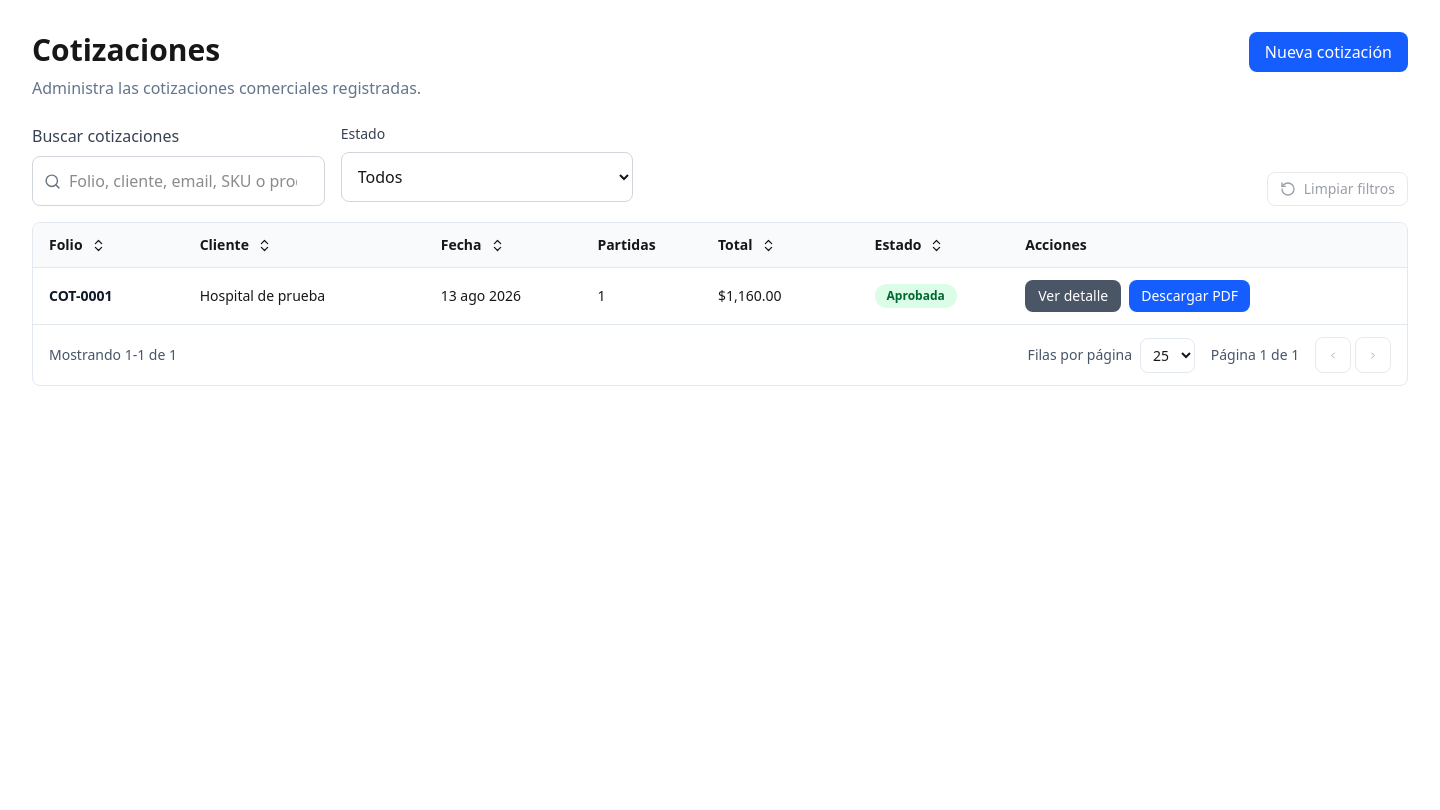
Test: QuotesPage › permite convertir desde el detalle únicamente una cotización confirmada no convertida
Expected: the text "COT-0001" is shown, [49, 286, 112, 305]
What coordinates should you click on to do the following:
click the button "Ver detalle"
I would click on:
 (1073, 296)
Its box is [1025, 280, 1121, 312].
(page scrolled)
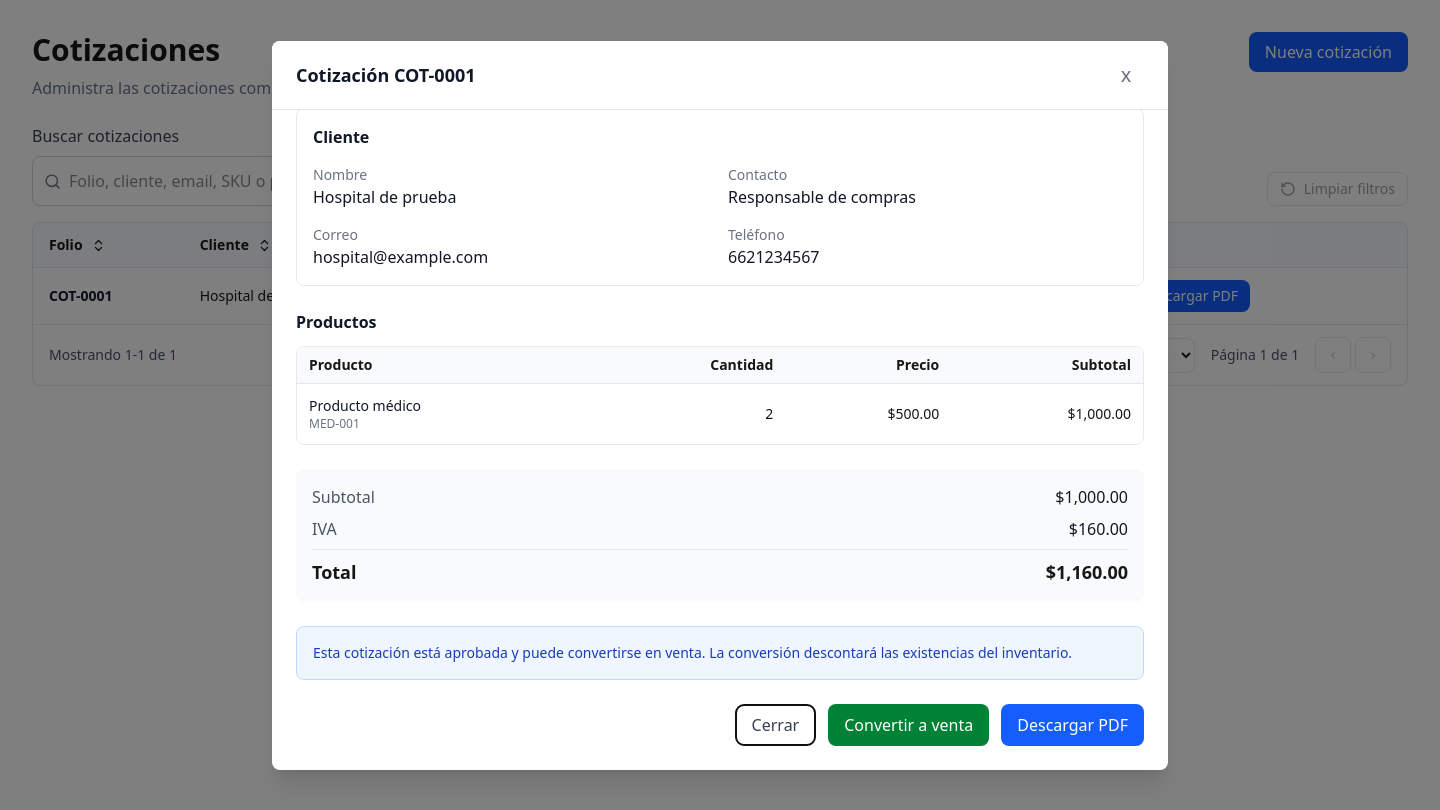
Now the button "Convertir a venta" is shown, box [828, 704, 989, 746]
